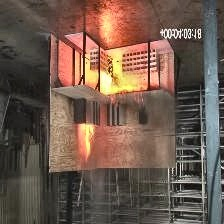fire: (74, 118, 102, 166)
